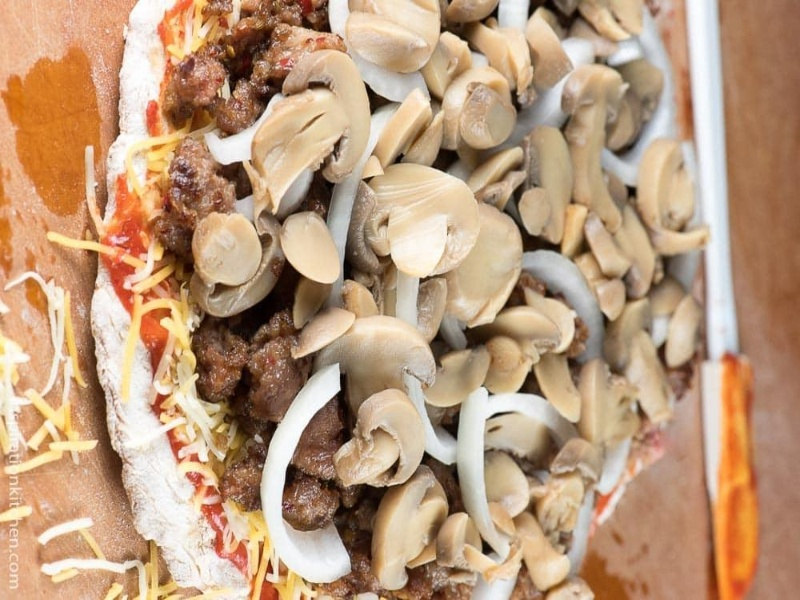champignon: (240, 44, 371, 220), (356, 157, 484, 284), (556, 61, 634, 237), (320, 386, 438, 492)
